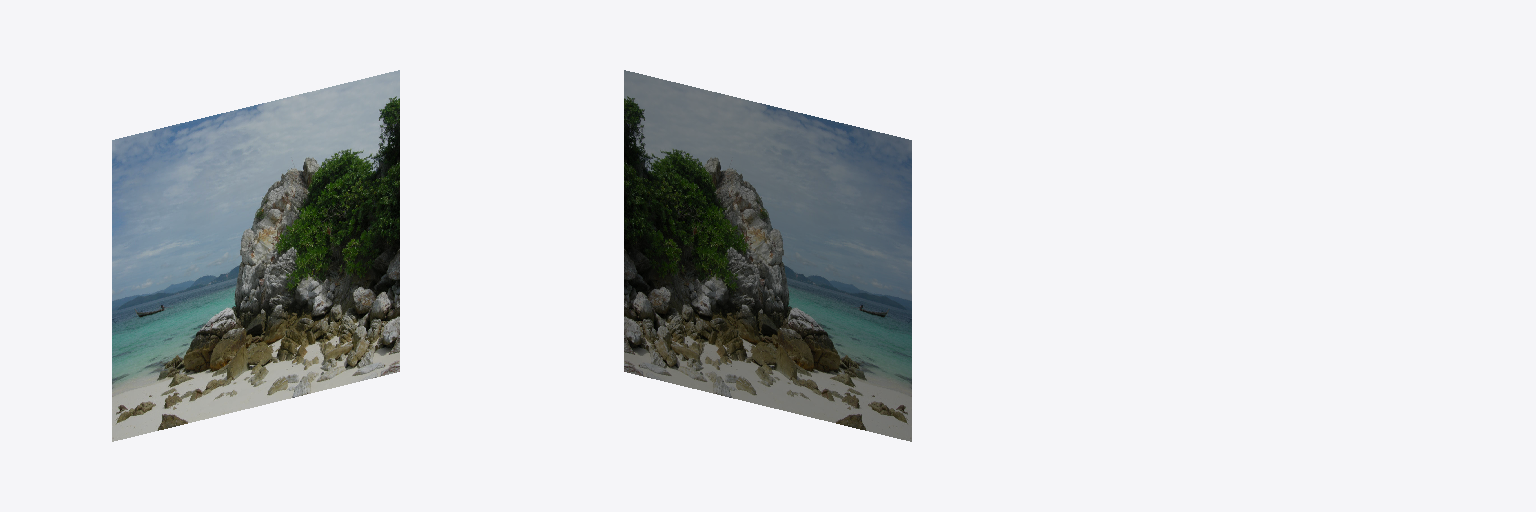
3 views of the same model, side by side, from view 1: azimuth 30°, elevation 25°; view 2: azimuth 150°, elevation 25°; view 3: azimuth 270°, elevation 25° (orthographic).
Visible parts, largest first — view 1: CinderblockSloppy0005_1_S; view 2: CinderblockSloppy0005_1_S; view 3: none.
Part boxes in pixels (bbox=[...]): CinderblockSloppy0005_1_S: bbox=[112, 70, 399, 441]; CinderblockSloppy0005_1_S: bbox=[624, 70, 911, 441].
Size of the model in its own units: 4 by 4 by 0.
Materials: 1 (1 with a texture image).